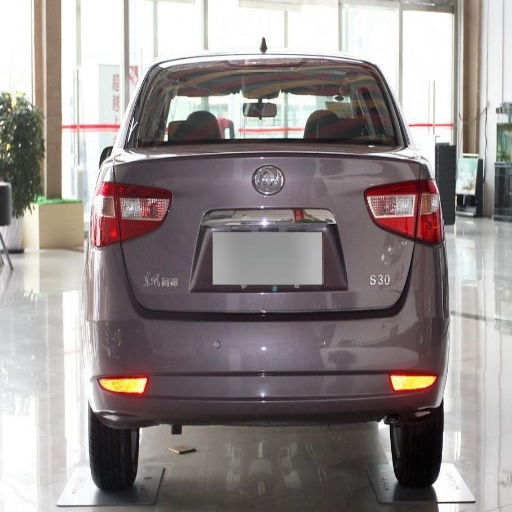back_bumper: (89, 244, 444, 426)
tailgate: (243, 134, 423, 238), (316, 236, 407, 316)
trunk: (122, 142, 416, 369)
